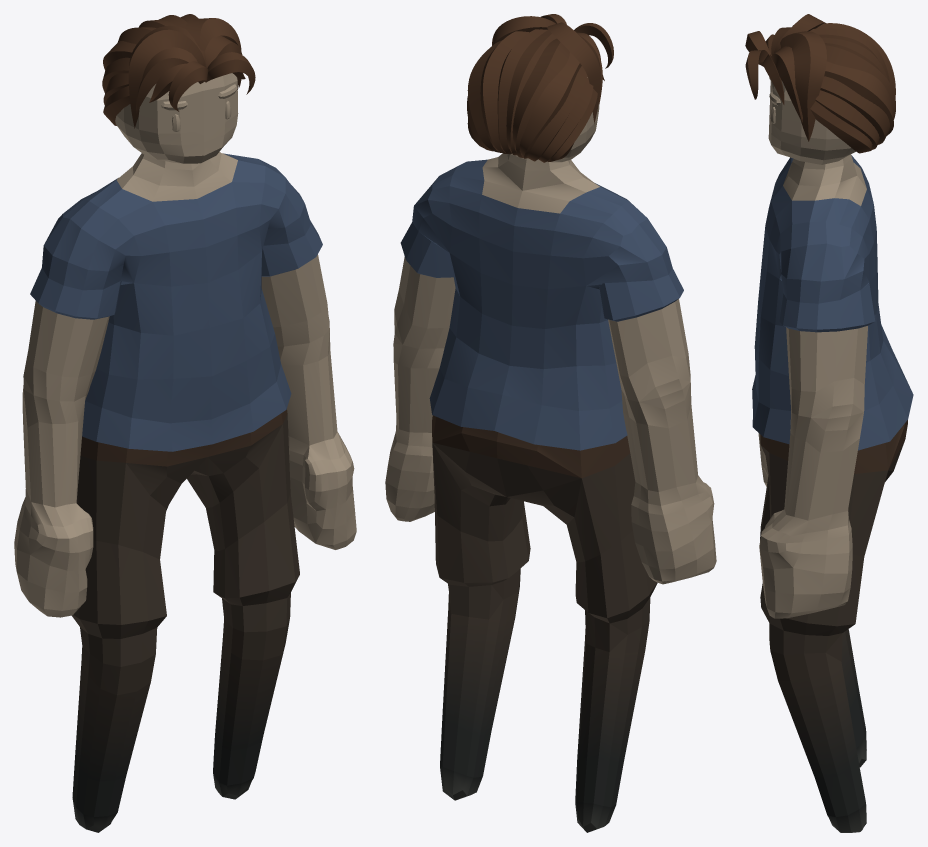
The model's file is citizen-male.glb.
3 renders of one model, left to right at view 1: azimuth 30°, elevation 25°; view 2: azimuth 150°, elevation 25°; view 3: azimuth 270°, elevation 25°, orthographic. The views are drawn at different scales.
Bounding box in the file's own units: 0.2339 × 0.55 × 0.1082.
